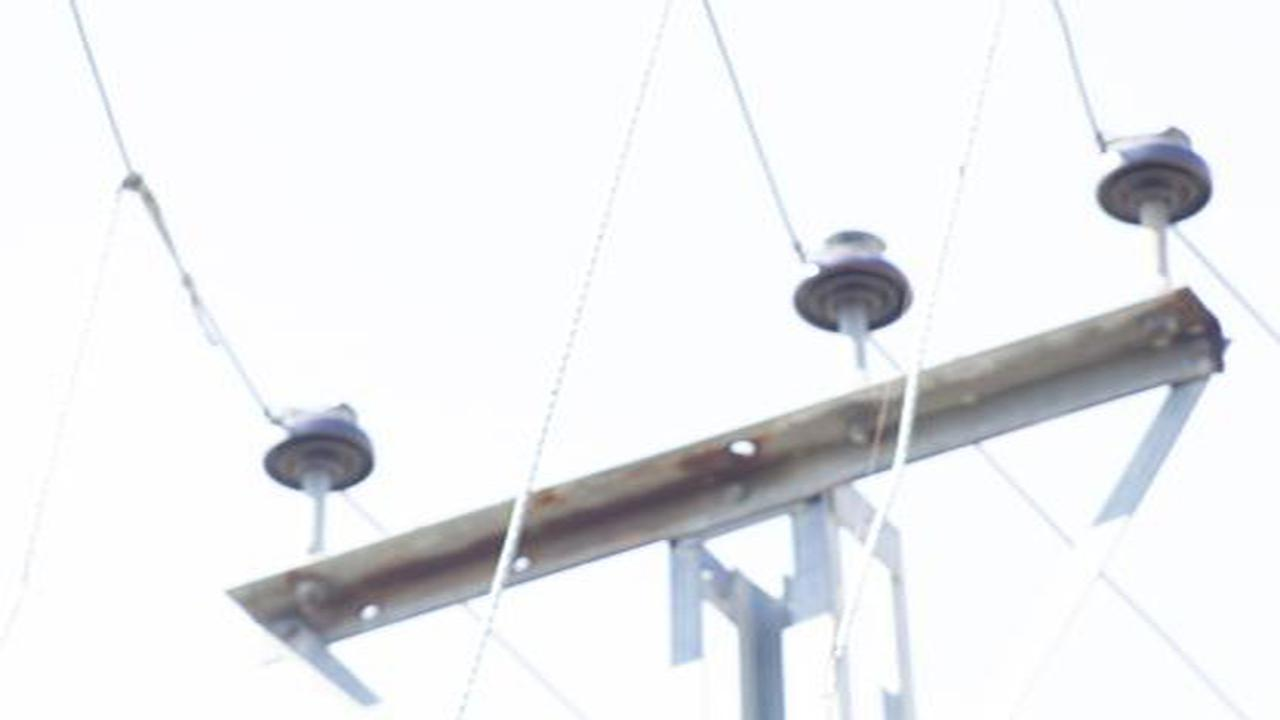insulator_pin: (787, 227, 921, 339), (1089, 127, 1218, 232), (258, 400, 379, 496)
